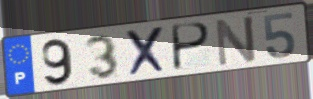3: (84, 33, 122, 81)
5: (262, 10, 297, 60)
9: (40, 37, 76, 87)
N: (213, 13, 259, 69)
P: (171, 21, 213, 73)
X: (124, 24, 169, 79)
